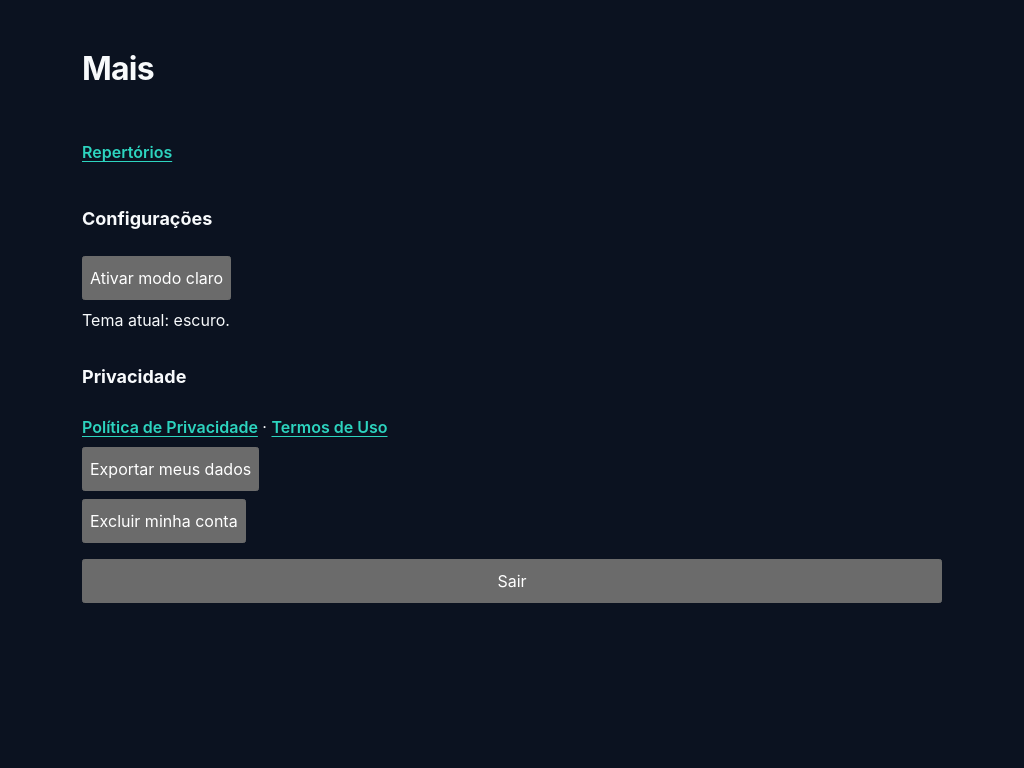
Scenario: MorePage › shows an error when signing out after confirming fails
What coordinates should you click on to do the following:
click the button "Sair"
I would click on:
 (512, 581)
Its box is 82,559 -> 942,603.
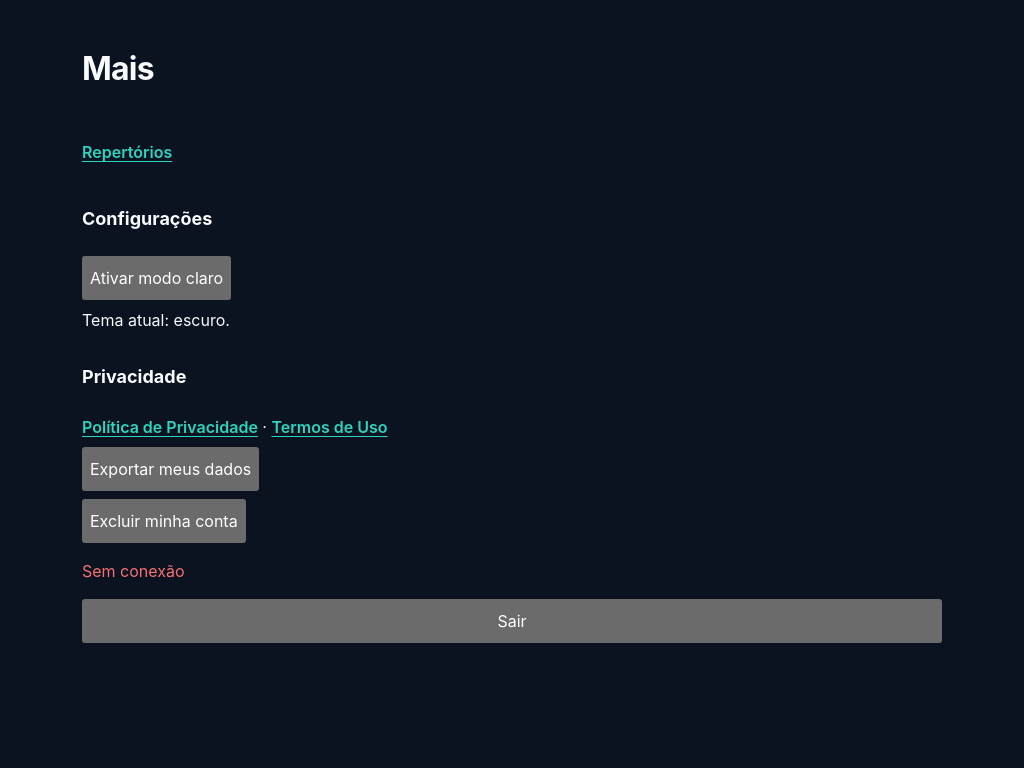
Expected: the message reads "Sem conexão", 82,561 -> 185,581
